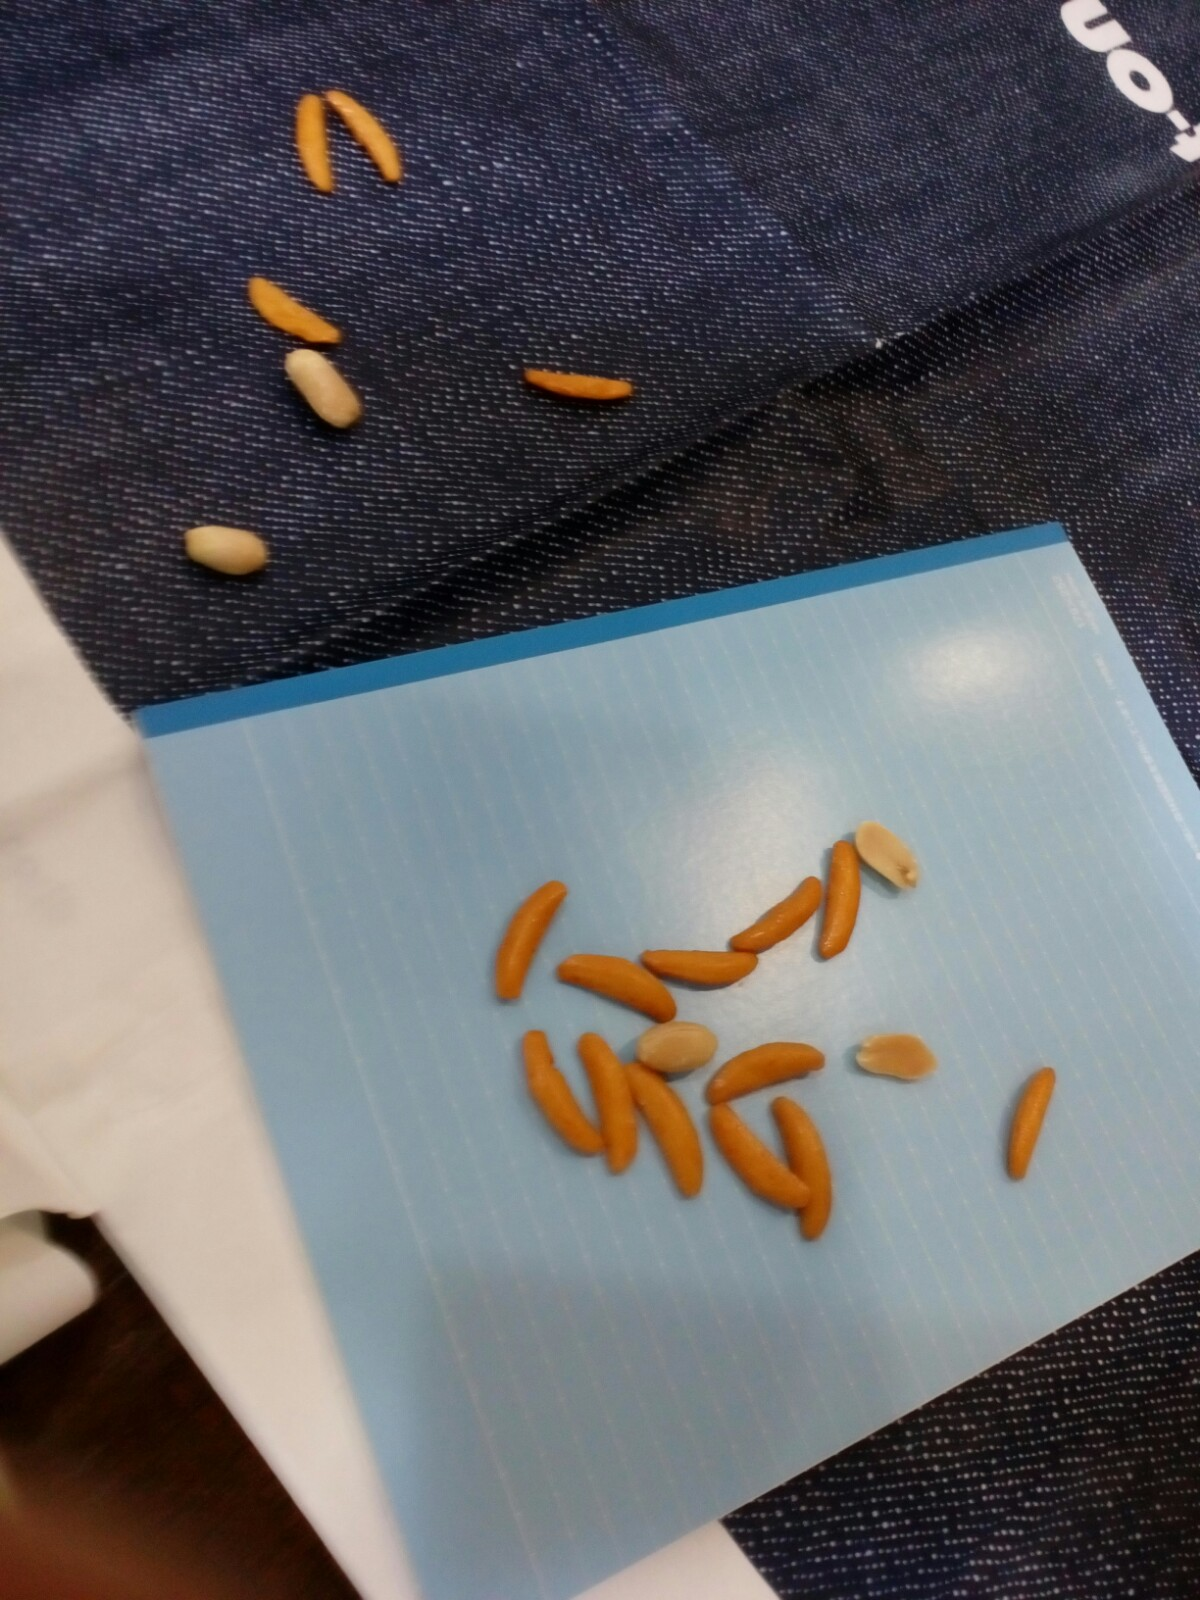peanut: (176, 510, 286, 591), (626, 1008, 754, 1076), (277, 329, 354, 438), (841, 1029, 950, 1097), (848, 813, 926, 906)
